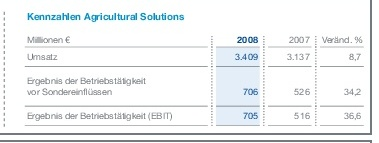table: (0, 0, 379, 143)
